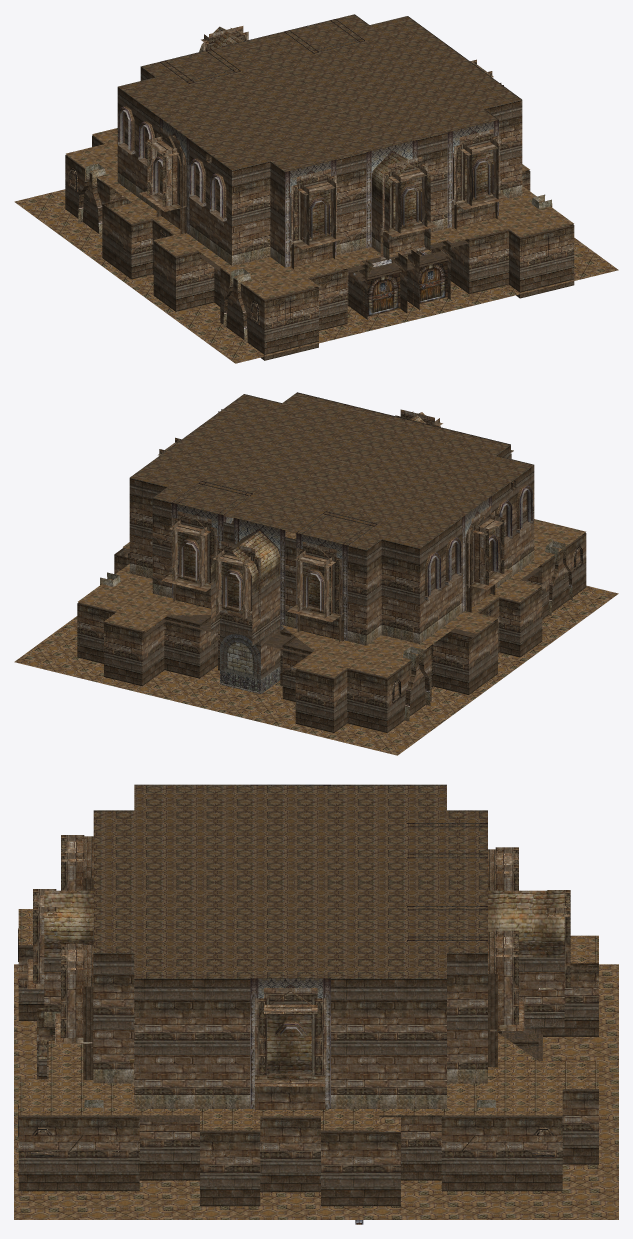
The model's file is ph_ghi02.glb.
3 views of the same model, one above another, from view 1: azimuth 30°, elevation 25°; view 2: azimuth 150°, elevation 25°; view 3: azimuth 270°, elevation 25° (orthographic). The views are drawn at different scales.
Visible parts, largest first — view 1: ph_ghi02-col; view 2: ph_ghi02-col; view 3: ph_ghi02-col.
Boxes of the visible parts, x1,y1,x2,y2 form: ph_ghi02-col: [14, 14, 618, 363]; ph_ghi02-col: [14, 392, 618, 755]; ph_ghi02-col: [14, 784, 618, 1224].
Bounding box in the file's own units: 30 × 13.38 × 30.
12 materials, 12 textured.
